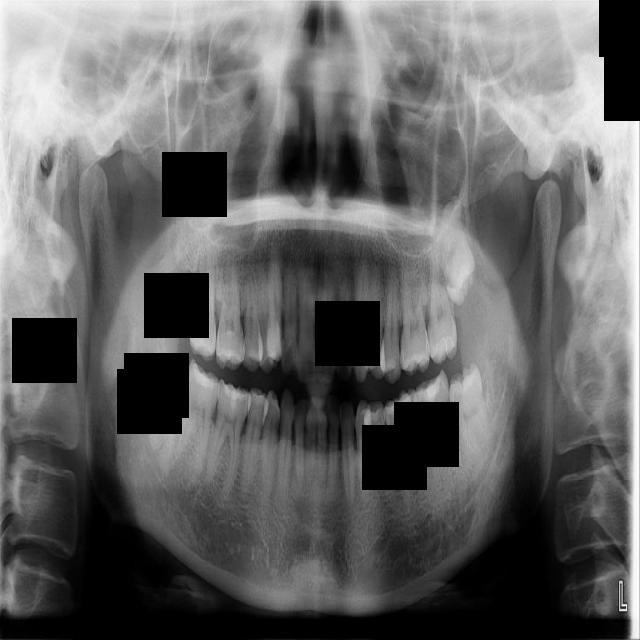52: (399, 366, 464, 428), (374, 385, 431, 440), (204, 376, 260, 429), (425, 312, 460, 365), (399, 328, 431, 376)
73: (595, 550, 600, 564)
BioHorizons Implant: (426, 234, 458, 365)
BioLife Implant: (424, 200, 485, 310)
Biomet 3i Implant: (439, 361, 506, 469)
Blue Sky Bio Implant: (409, 370, 468, 493)
Caries: (189, 242, 216, 363)
Implant: (171, 358, 225, 473)
Keystone Dental Implant: (145, 367, 189, 465)
